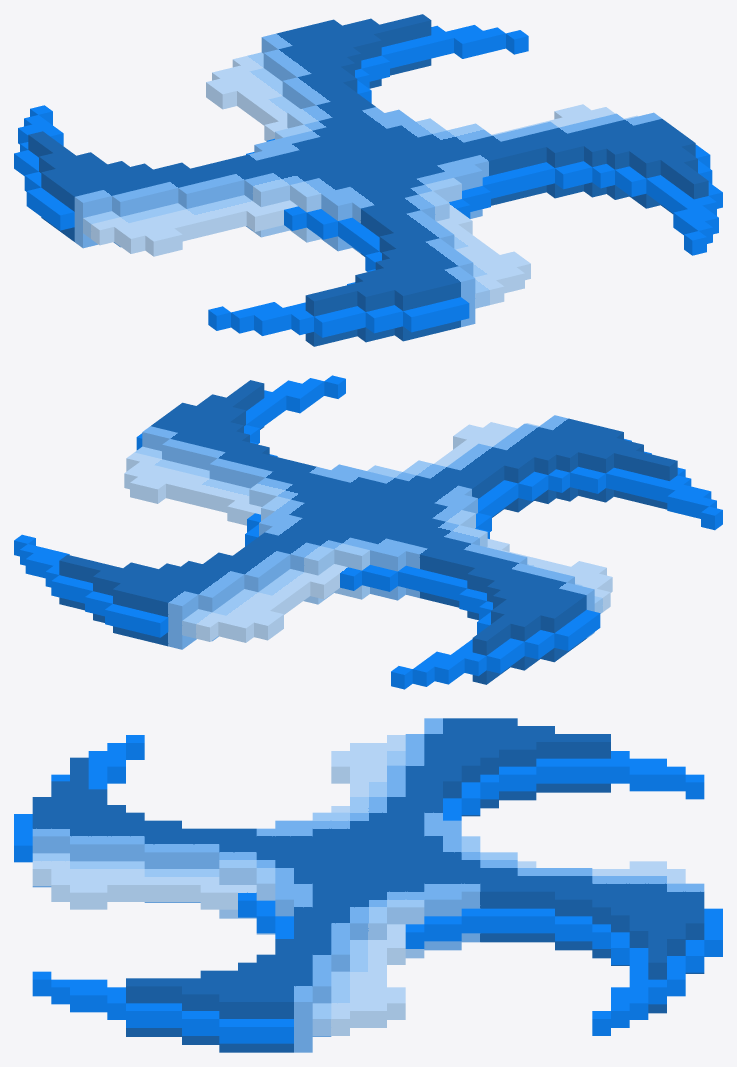
The model's file is 剑客-回旋镖.gltf.
3 renders of one model, top to bottom at view 1: azimuth 30°, elevation 25°; view 2: azimuth 150°, elevation 25°; view 3: azimuth 270°, elevation 25°, orthographic. The views are drawn at different scales.
Visible parts, largest first — view 1: Object; view 2: Object; view 3: Object.
Boxes of the visible parts, left/top/right/bottom form: Object: left=14, top=14, right=722, bottom=346; Object: left=14, top=375, right=722, bottom=689; Object: left=14, top=718, right=722, bottom=1052.
Bounding box in the file's own units: 38 × 3 × 38.
1 material, 1 textured.
